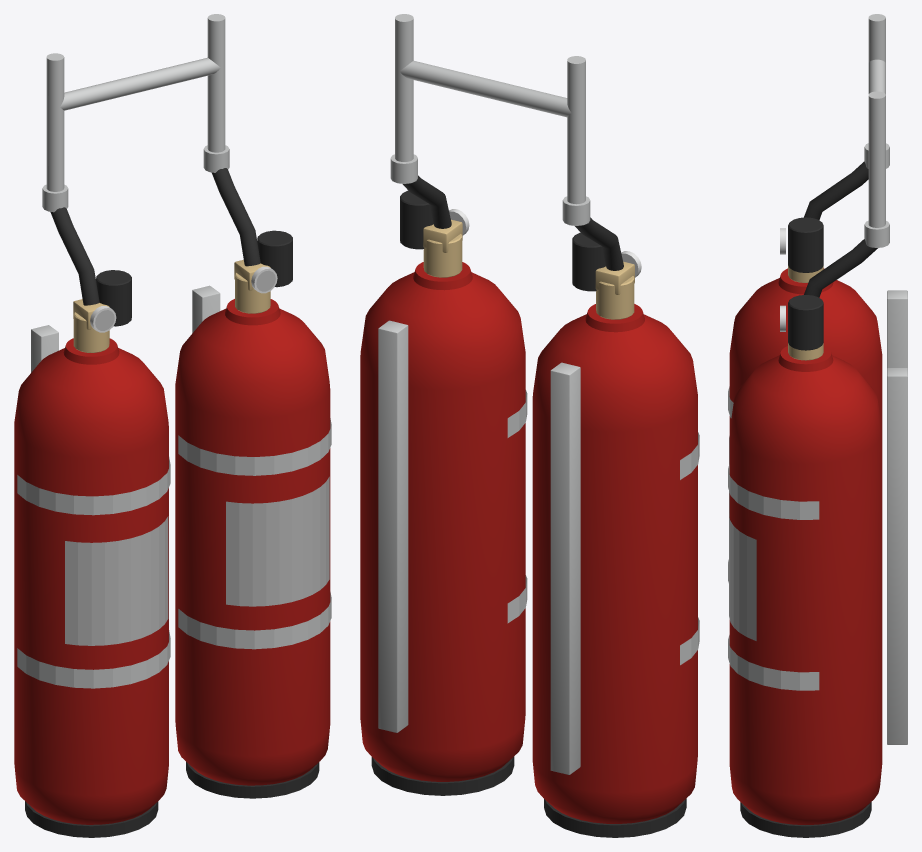
File: Kit_HalonCylinder_Pair.fbx
3 renders of one model, left to right at view 1: azimuth 30°, elevation 25°; view 2: azimuth 150°, elevation 25°; view 3: azimuth 270°, elevation 25°, orthographic. The views are drawn at different scales.
Visible parts, largest first — view 1: Kit_HalonCylinder_Pair_LOD0; view 2: Kit_HalonCylinder_Pair_LOD0; view 3: Kit_HalonCylinder_Pair_LOD0.
Boxes of the visible parts, x1,y1,x2,y2 form: Kit_HalonCylinder_Pair_LOD0: [14, 14, 331, 837]; Kit_HalonCylinder_Pair_LOD0: [360, 14, 699, 837]; Kit_HalonCylinder_Pair_LOD0: [728, 14, 907, 837].
Size of what is drawn, in the model's own units: 0.6651 by 1.55 by 0.3535.
